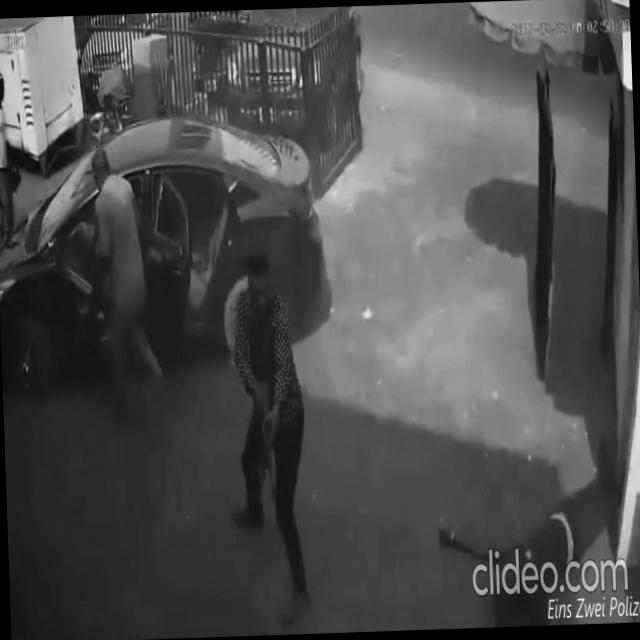gun: (257, 374, 280, 514), (0, 183, 5, 240)
person: (433, 433, 626, 629), (78, 142, 168, 438)
person with a gun: (224, 247, 317, 628), (0, 64, 15, 245)
